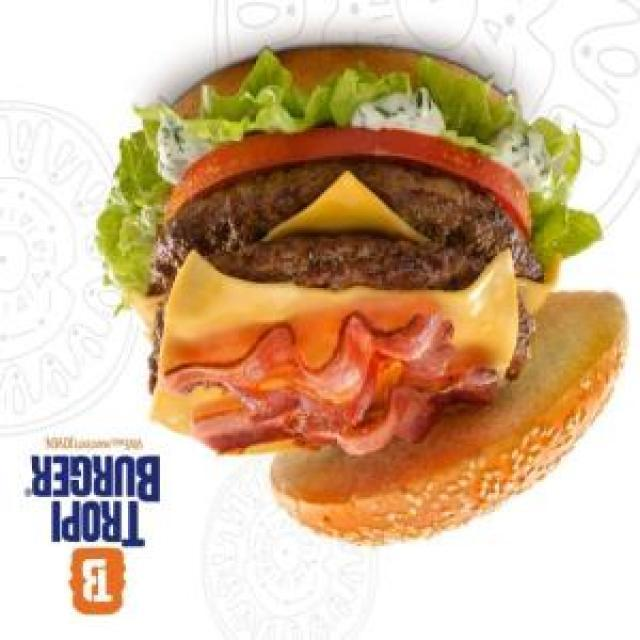Burger: (94, 44, 630, 548)
